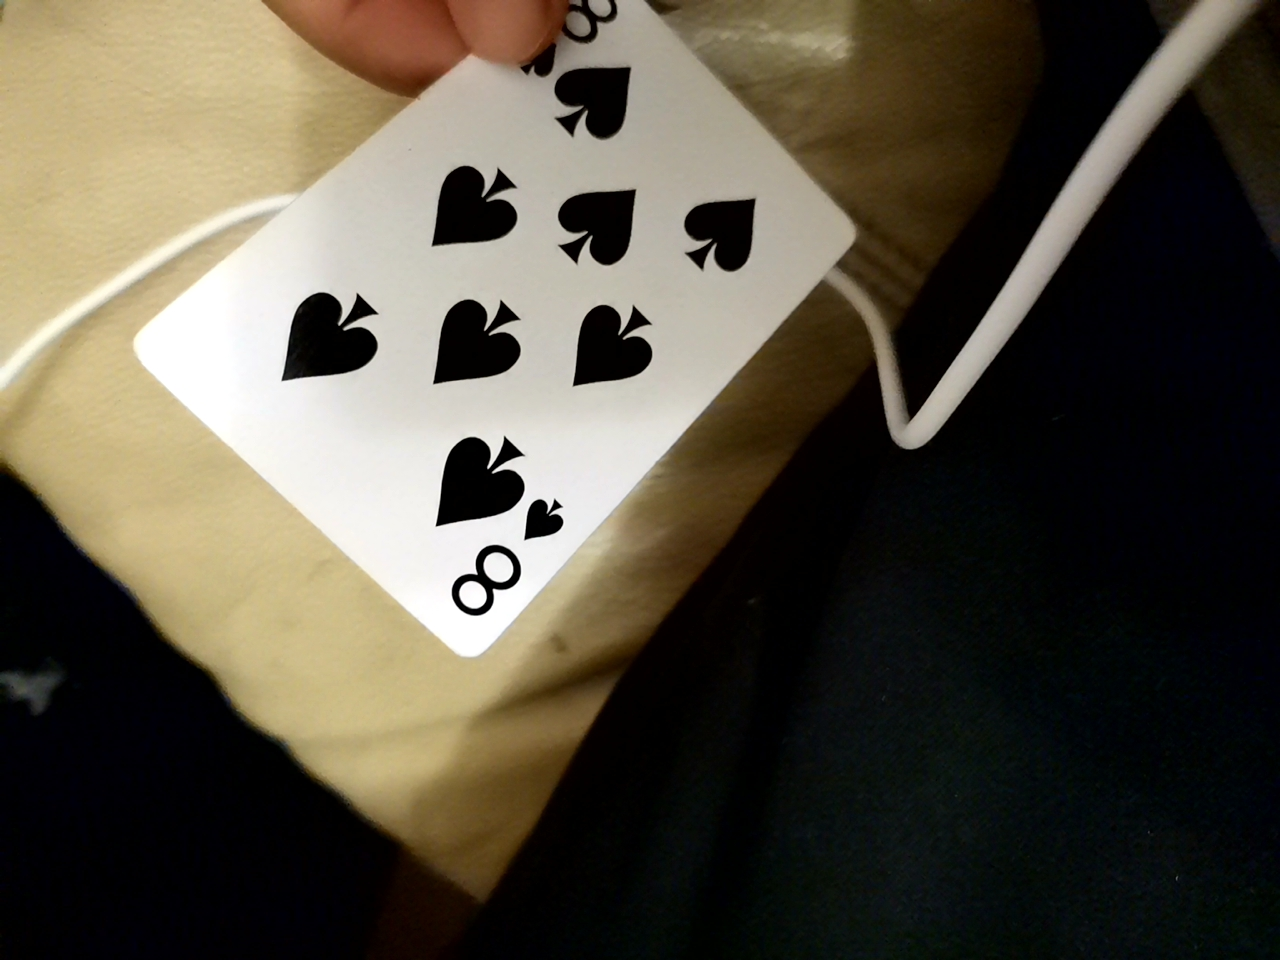ht 8: (107, 16, 896, 690)
